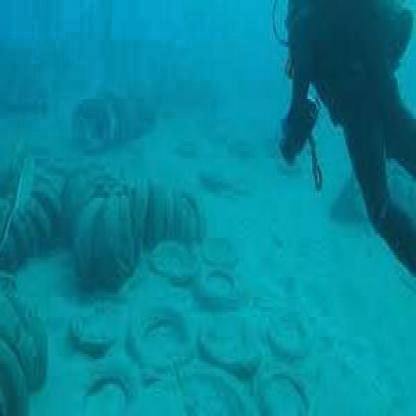tire: (68, 80, 134, 168), (102, 178, 184, 245), (74, 356, 148, 416), (67, 292, 133, 359), (146, 294, 200, 372), (197, 260, 248, 317)
